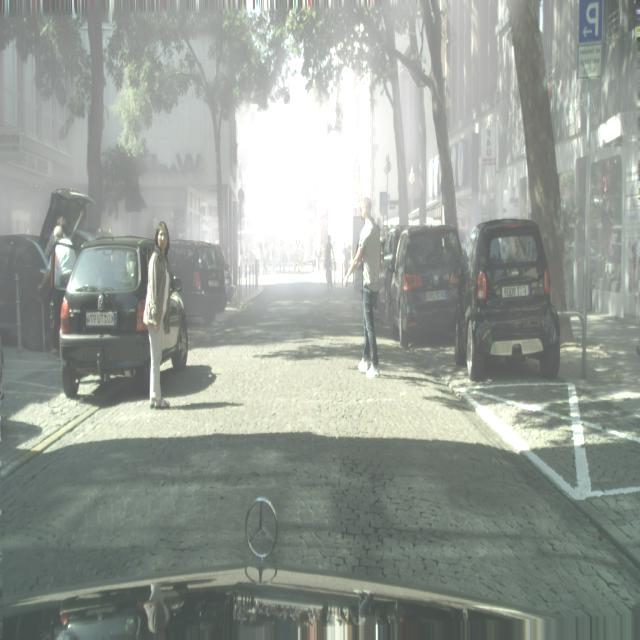person: (342, 195, 382, 379), (142, 222, 171, 409), (38, 218, 76, 354), (324, 232, 334, 292), (342, 236, 351, 288)
truck: (59, 234, 188, 399), (461, 218, 561, 381), (389, 224, 468, 348), (0, 234, 50, 351), (168, 240, 234, 326), (377, 227, 400, 322)
